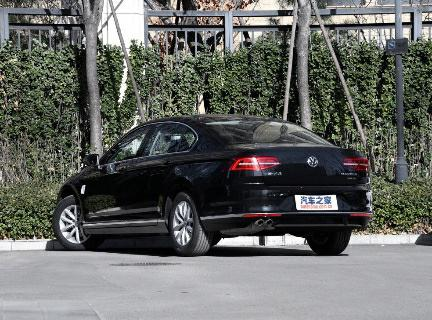大众-迈腾: (43, 108, 380, 263)
